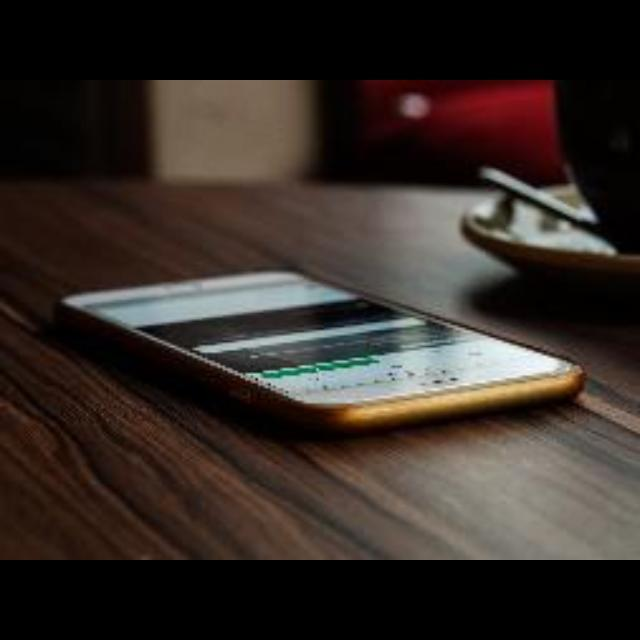PhoneUse: (58, 272, 590, 440)
